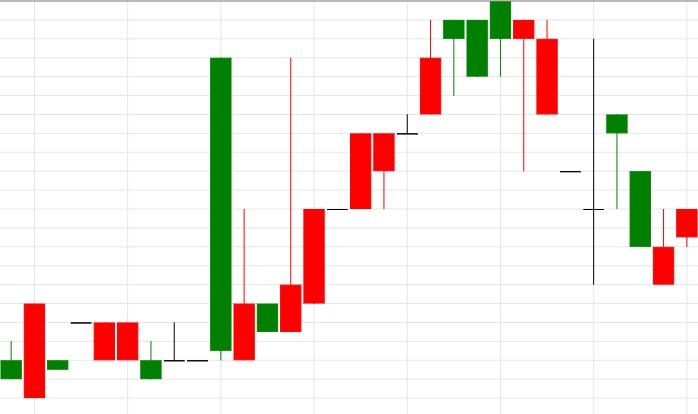hanging_man_fall: (140, 0, 535, 380), (139, 19, 465, 380)
